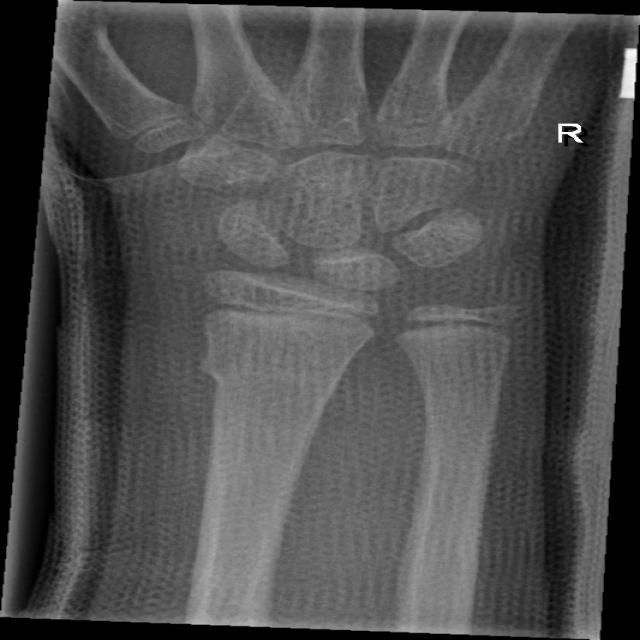radius fracture: (166, 327, 380, 494)
